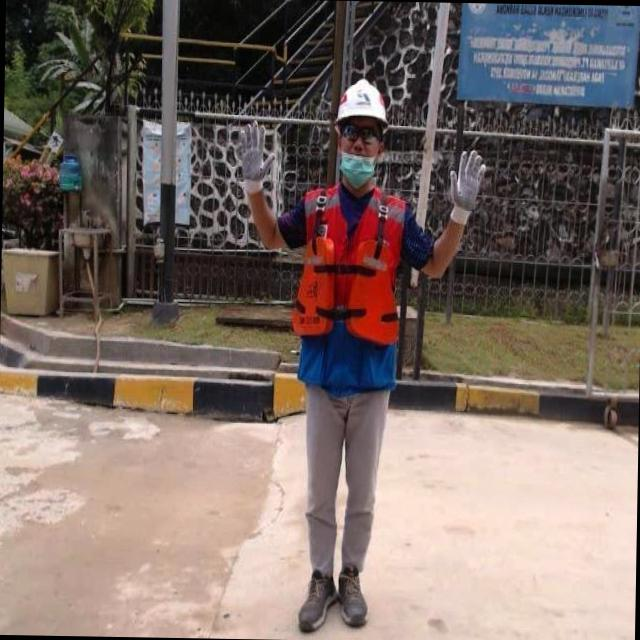vest: (292, 184, 406, 390)
